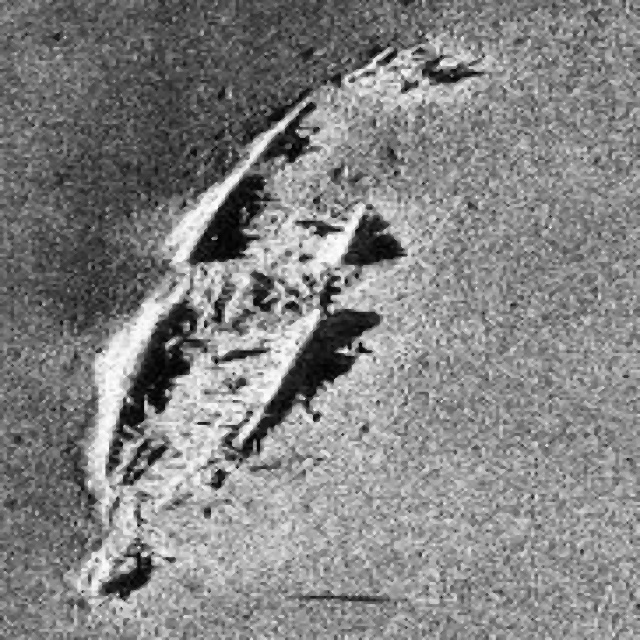Ship: (75, 30, 501, 614)
